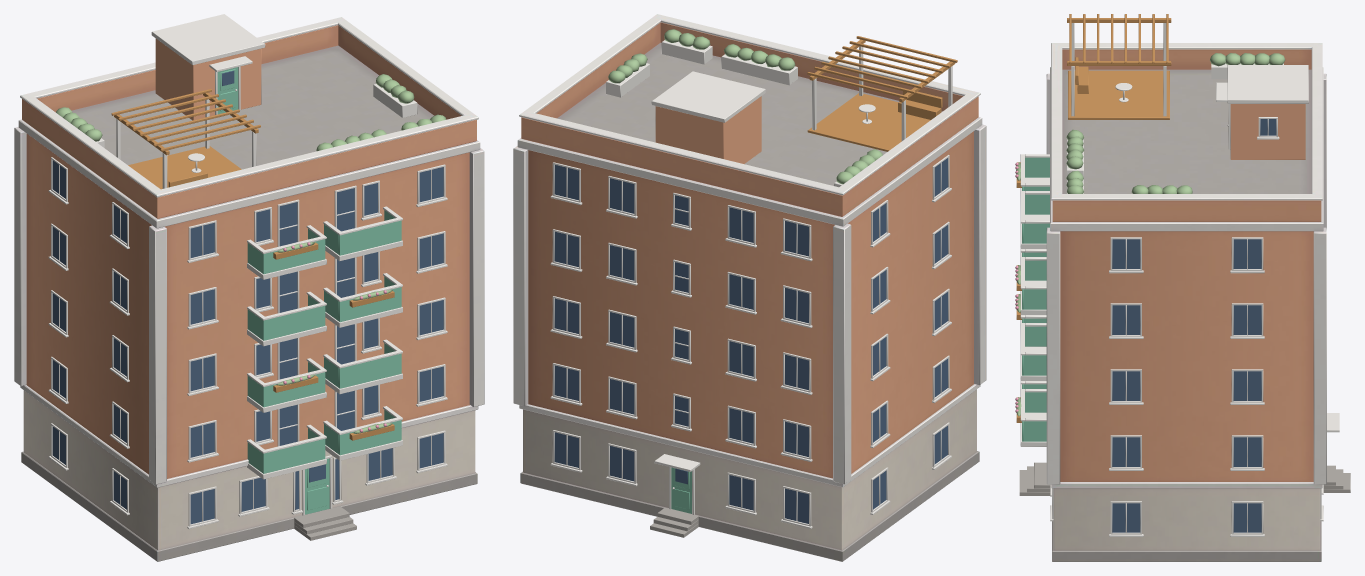
Rendered from apartment-building.glb.
3 renders of one model, left to right at view 1: azimuth 30°, elevation 25°; view 2: azimuth 150°, elevation 25°; view 3: azimuth 270°, elevation 25°, orthographic.
Visible parts, largest first — view 1: apartment-building_body, apartment-building_details, apartment-building_roof_terrace, apartment-building_shrubs; view 2: apartment-building_body, apartment-building_details, apartment-building_roof_terrace, apartment-building_shrubs; view 3: apartment-building_body, apartment-building_details, apartment-building_roof_terrace, apartment-building_shrubs.
Part boxes in pixels (box(x1,y1,x2,y2)): apartment-building_body: box(14, 17, 484, 561); apartment-building_details: box(48, 157, 447, 540); apartment-building_roof_terrace: box(96, 14, 417, 189); apartment-building_shrubs: box(56, 74, 446, 433); apartment-building_body: box(513, 14, 986, 561); apartment-building_details: box(550, 155, 951, 537); apartment-building_roof_terrace: box(606, 36, 957, 187); apartment-building_shrubs: box(608, 29, 882, 184); apartment-building_body: box(1046, 43, 1326, 561); apartment-building_details: box(1015, 154, 1350, 536); apartment-building_roof_terrace: box(1067, 14, 1308, 193); apartment-building_shrubs: box(1016, 53, 1285, 416).
Bounding box in the file's own units: 15.56 × 18.3 × 13.82.
13 materials, 1 textured.
